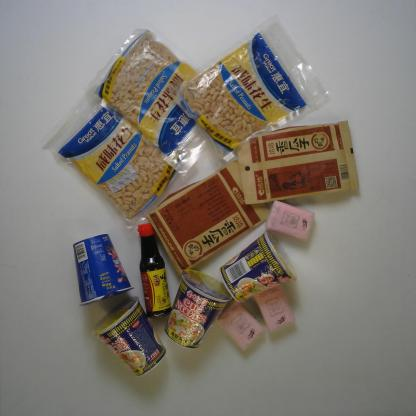Dessert: (71, 233, 137, 308)
Dried Food: (145, 148, 279, 281), (237, 117, 368, 206)
Dried Fruit: (39, 69, 209, 233), (171, 13, 340, 163), (84, 19, 240, 180)
Instant Noodles: (90, 294, 169, 380), (218, 228, 299, 305), (163, 267, 236, 350)
Seasoner: (134, 218, 174, 320)
Tissue: (215, 296, 266, 352), (250, 279, 296, 335), (263, 200, 316, 242)
